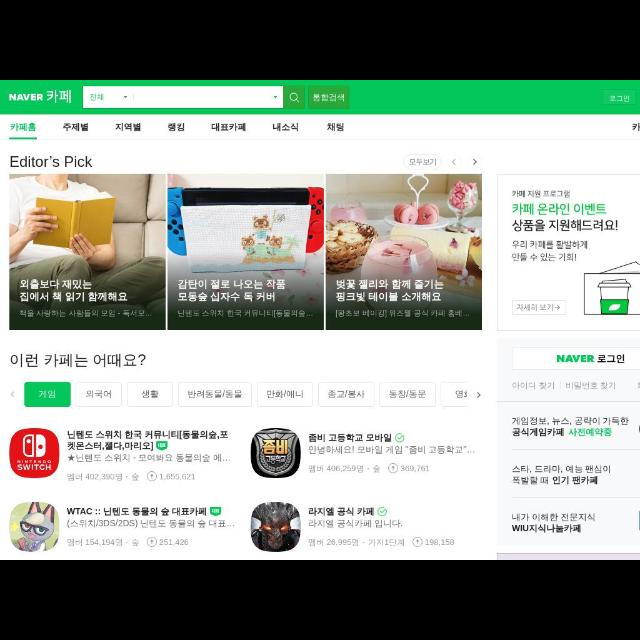backgroundimage: (168, 174, 324, 330), (326, 174, 482, 330), (8, 175, 165, 329)
button: (283, 88, 303, 109), (447, 155, 461, 169), (468, 156, 480, 168)
icon: (290, 92, 300, 104), (146, 472, 158, 482), (395, 432, 405, 443), (146, 537, 156, 547), (388, 464, 398, 474), (377, 506, 387, 516), (412, 538, 422, 546), (68, 453, 76, 462), (450, 160, 458, 167), (476, 389, 482, 398), (271, 94, 279, 100), (10, 390, 16, 398), (472, 158, 476, 166), (554, 306, 562, 310), (122, 95, 128, 98)
image: (585, 262, 639, 316), (251, 503, 301, 553), (10, 429, 60, 478), (9, 502, 58, 552), (252, 428, 300, 478)
input: (136, 85, 284, 106)
multitab: (1, 114, 639, 140)
spinner: (84, 86, 134, 108)
text: (67, 429, 227, 451), (20, 278, 126, 304), (511, 416, 631, 438), (336, 278, 442, 302), (178, 280, 286, 302), (510, 512, 596, 536), (512, 464, 612, 484), (309, 444, 475, 456), (10, 354, 146, 368), (66, 518, 236, 528), (176, 309, 312, 321), (512, 240, 588, 260), (513, 220, 619, 234), (67, 507, 207, 517), (9, 156, 93, 172), (335, 308, 469, 318), (20, 308, 152, 318), (140, 452, 232, 466), (513, 380, 617, 392), (512, 202, 606, 215), (308, 519, 404, 531), (308, 431, 392, 443), (308, 538, 406, 548), (556, 352, 626, 366), (67, 471, 139, 483), (68, 537, 138, 549), (308, 505, 377, 517), (308, 464, 379, 474), (512, 190, 572, 200), (186, 391, 242, 401), (76, 454, 130, 464), (210, 122, 246, 134), (9, 91, 43, 103), (328, 389, 367, 399), (266, 389, 304, 399), (389, 389, 426, 399), (46, 90, 72, 104), (314, 92, 344, 104), (410, 156, 438, 168), (514, 304, 554, 312), (10, 122, 36, 134), (63, 121, 89, 133), (401, 463, 431, 473), (85, 389, 114, 399), (160, 473, 196, 481), (272, 121, 298, 132), (115, 123, 141, 133), (158, 538, 190, 546), (424, 538, 454, 546), (610, 93, 630, 103), (37, 390, 57, 400), (168, 121, 185, 132), (327, 123, 345, 133), (140, 389, 160, 398), (90, 93, 104, 103), (452, 390, 468, 398), (632, 123, 638, 131)
textbutton: (514, 348, 640, 368), (180, 382, 252, 406), (379, 382, 436, 406), (319, 382, 375, 406), (258, 382, 312, 406), (128, 382, 174, 408), (76, 382, 122, 406), (26, 382, 70, 406), (308, 85, 350, 106), (441, 382, 471, 408), (512, 300, 566, 314), (404, 154, 441, 170), (603, 90, 637, 104)
toolbar: (1, 81, 639, 113)
